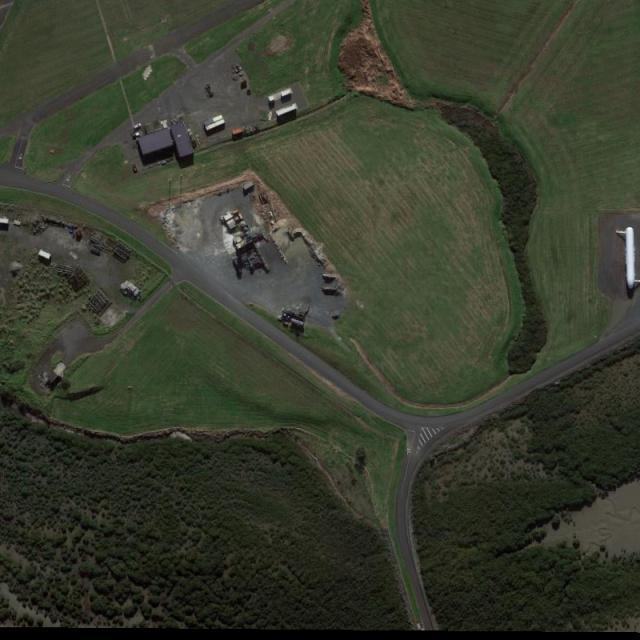vehicle: (132, 122, 142, 130)
